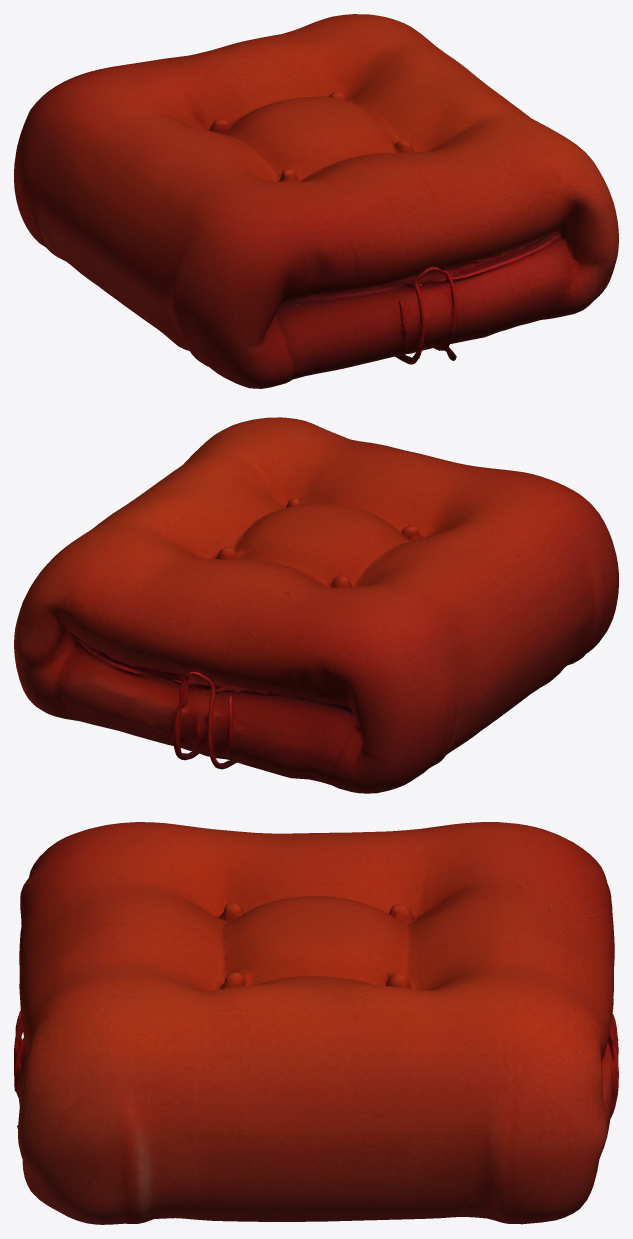
File: 02_SORIANA.glb
3 views of the same model, one above another, from view 1: azimuth 30°, elevation 25°; view 2: azimuth 150°, elevation 25°; view 3: azimuth 270°, elevation 25° (orthographic). The views are drawn at different scales.
Parts seen in each view (by area): view 1: 1_sofa.002; view 2: 1_sofa.002; view 3: 1_sofa.002.
Boxes of the visible parts, x1=… form: 1_sofa.002: x1=14, y1=14, x2=618, y2=388; 1_sofa.002: x1=14, y1=417, x2=618, y2=793; 1_sofa.002: x1=14, y1=822, x2=618, y2=1224.
Bounding box in the file's own units: 0.9937 × 0.3957 × 1.
1 material, 1 textured.
